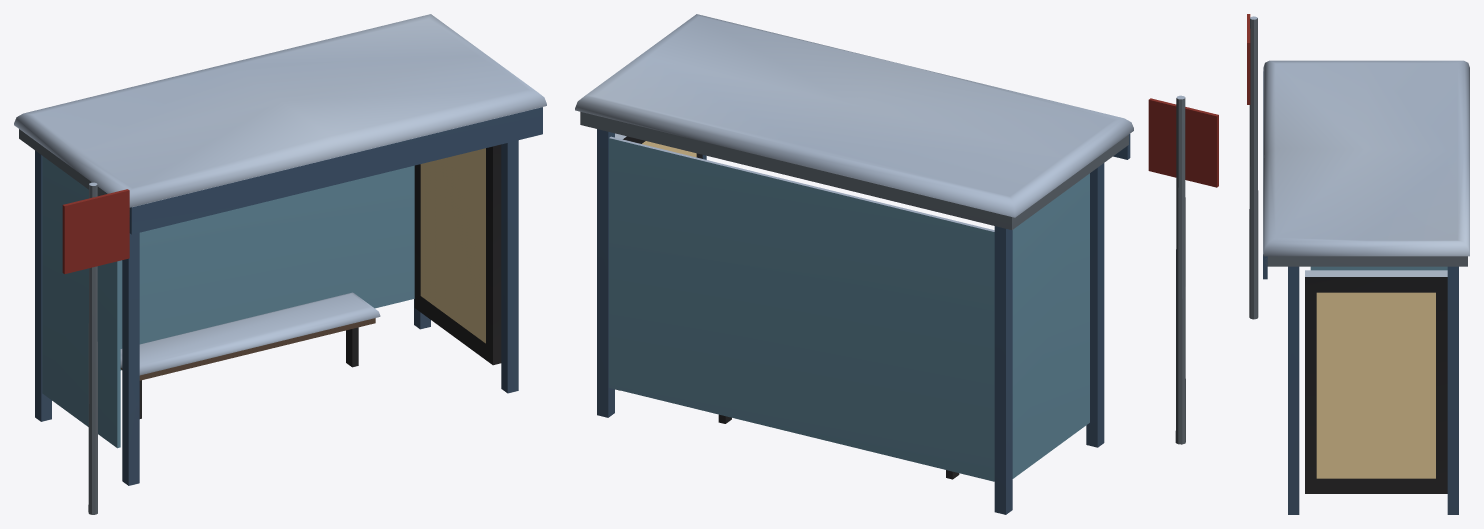
File: bus_stop.glb
3 renders of one model, left to right at view 1: azimuth 30°, elevation 25°; view 2: azimuth 150°, elevation 25°; view 3: azimuth 270°, elevation 25°, orthographic. The views are drawn at different scales.
Parts seen in each view (by area): view 1: Prop, Panel; view 2: Prop, Panel; view 3: Prop, Panel.
Boxes of the visible parts, <box> form: Prop: <box>14,14,546,514</box>; Panel: <box>62,189,129,274</box>; Prop: <box>575,14,1185,514</box>; Panel: <box>1148,98,1218,187</box>; Prop: <box>1249,16,1469,514</box>; Panel: <box>1247,14,1250,104</box>.
Bounding box in the file's own units: 4.54 × 2.9 × 1.96.
